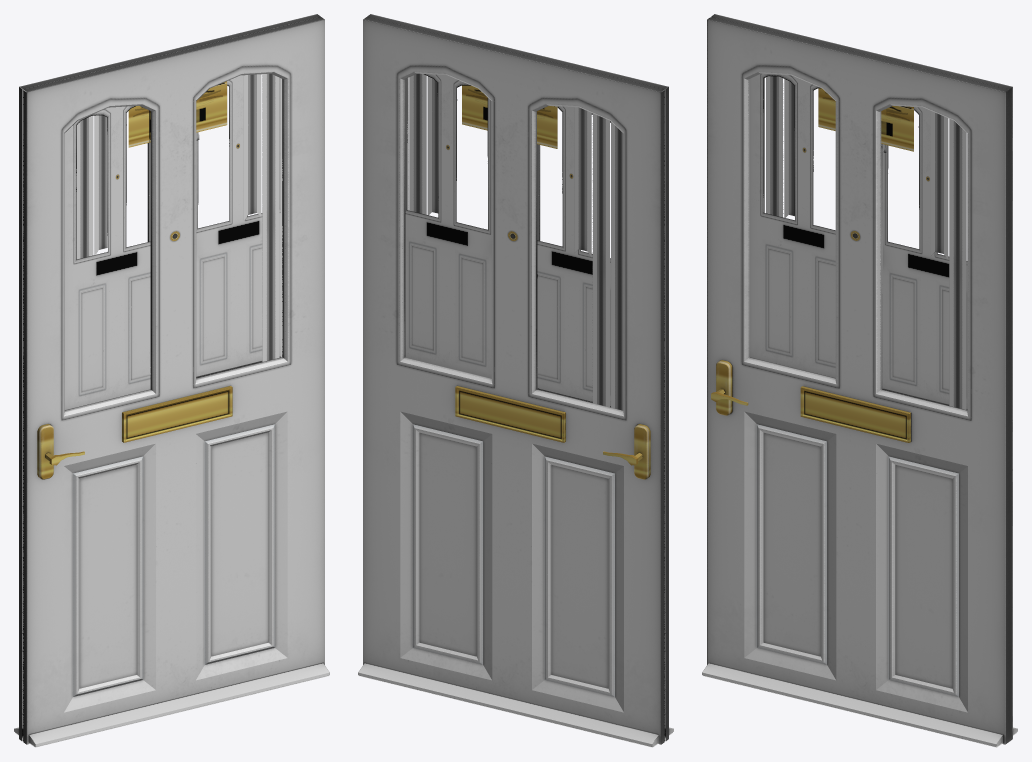
The model's file is BobAmyDoor.FBX.
3 views of the same model, side by side, from view 1: azimuth 30°, elevation 25°; view 2: azimuth 150°, elevation 25°; view 3: azimuth 330°, elevation 25° (orthographic).
Visible parts, largest first — view 1: BobAmyDoor, BobAmyDoorGlass; view 2: BobAmyDoor, BobAmyDoorGlass; view 3: BobAmyDoor, BobAmyDoorGlass.
Part boxes in pixels (x1,y1,x2,y2): BobAmyDoor: (14,14,329,747); BobAmyDoorGlass: (64,73,282,409); BobAmyDoor: (358,14,673,747); BobAmyDoorGlass: (405,73,623,410); BobAmyDoor: (702,14,1017,747); BobAmyDoorGlass: (749,73,967,409).
Size of the model in its own units: 36.88 by 77.06 by 6.13.
